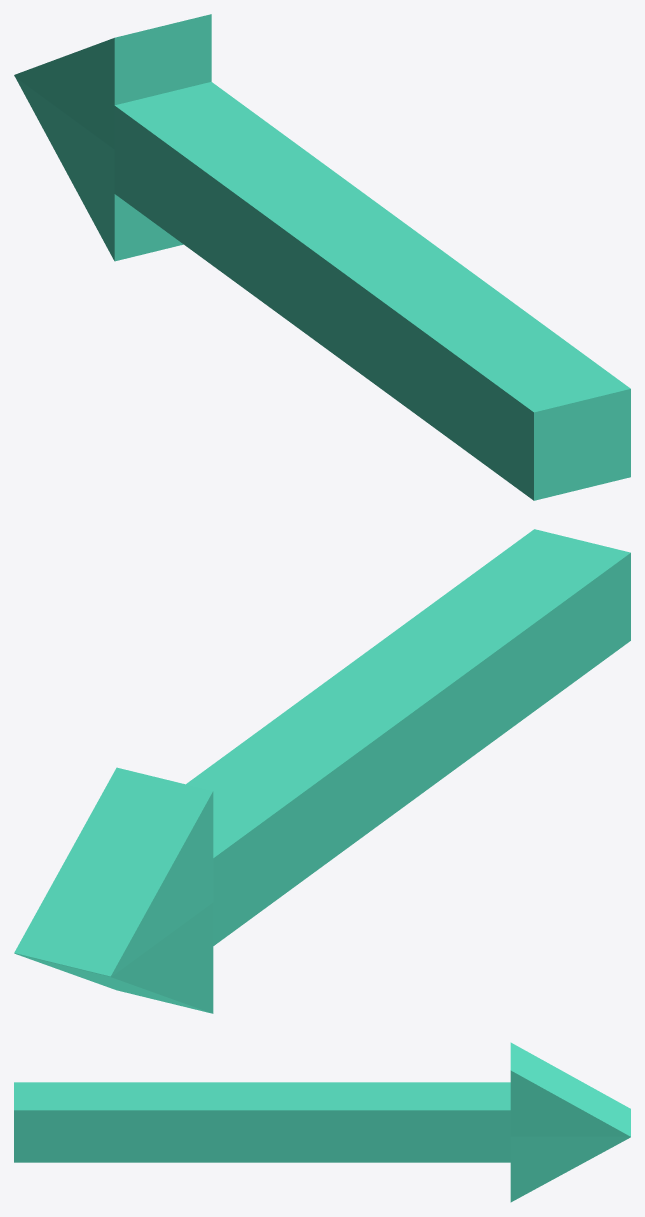
File: arrow.glb
3 renders of one model, top to bottom at view 1: azimuth 30°, elevation 25°; view 2: azimuth 150°, elevation 25°; view 3: azimuth 270°, elevation 25°, orthographic. The views are drawn at different scales.
Parts seen in each view (by area): view 1: Cube; view 2: Cube; view 3: Cube.
Boxes of the visible parts, bbox=[...] form: Cube: bbox=[14, 14, 630, 500]; Cube: bbox=[14, 529, 630, 1013]; Cube: bbox=[14, 1042, 630, 1202].
Bounding box in the file's own units: 0.1218 × 0.2645 × 1.12.
